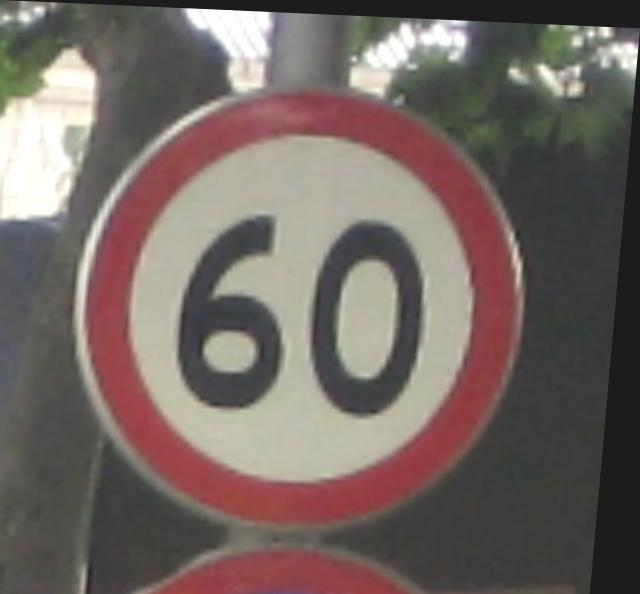limit60: (48, 66, 557, 546)
